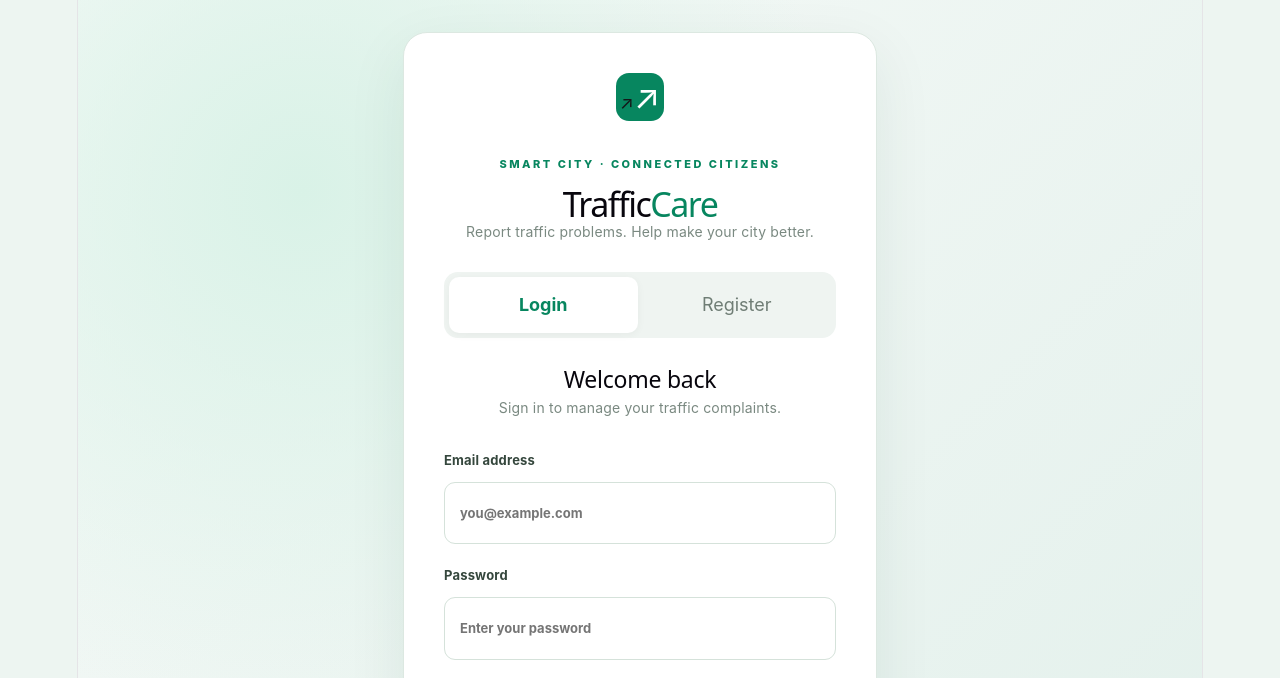
TrafficCare App › switches to registration mode
The width and height of the screenshot is (1280, 678).
What coordinates should you click on to do the following:
click the button "Register"
I would click on:
 (737, 305)
Its box is [642,277,831,333].
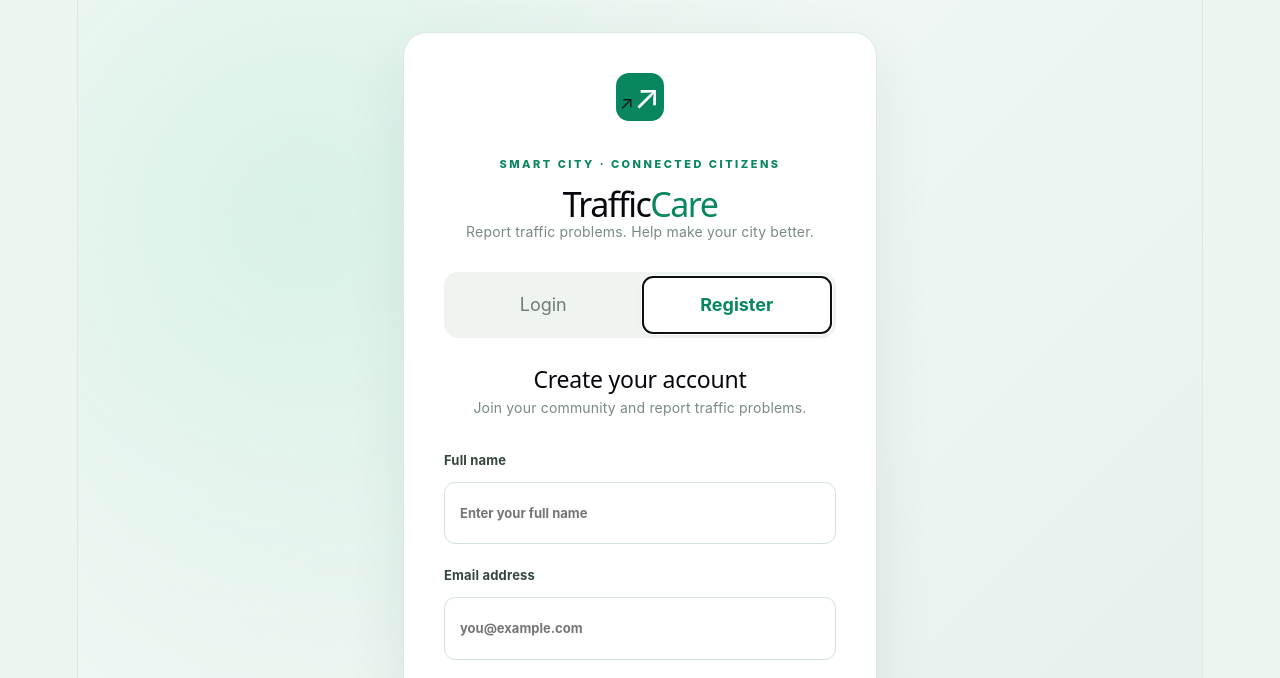
Expected: the heading "Create your account" is shown, [533,363,746,395]
Expected: the field with placeholder "Enter your full name" is shown, [444,482,836,544]
